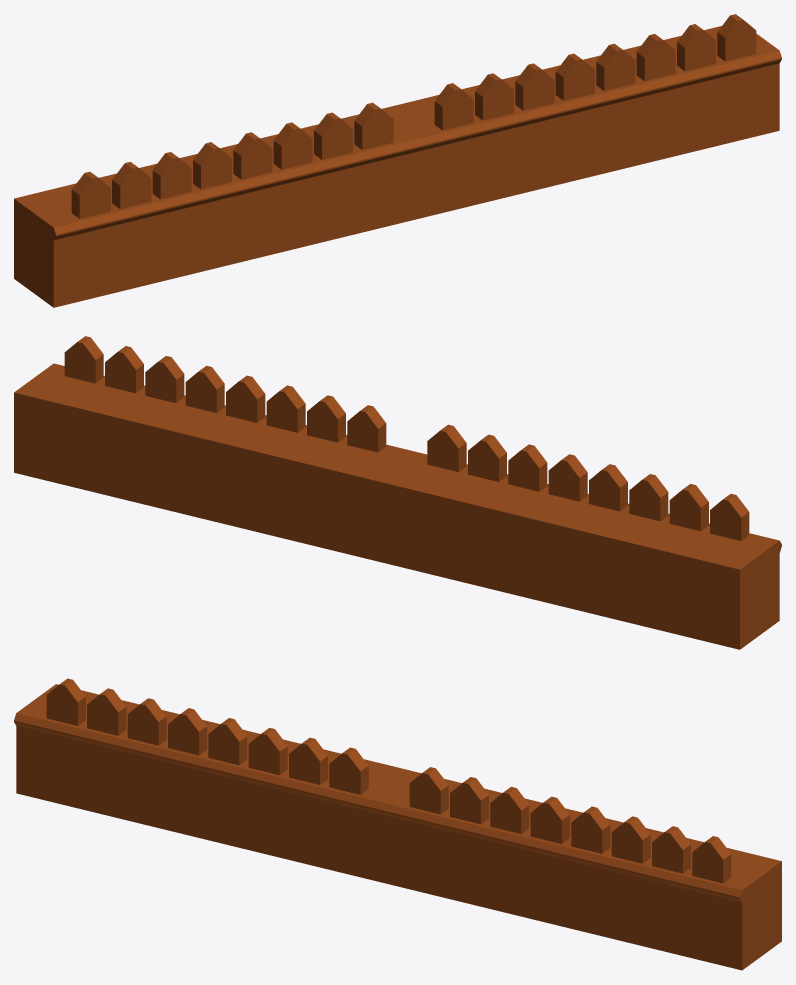
File: Wall2.fbx
3 renders of one model, top to bottom at view 1: azimuth 30°, elevation 25°; view 2: azimuth 150°, elevation 25°; view 3: azimuth 330°, elevation 25°, orthographic.
Parts seen in each view (by area): view 1: Thaphaegate.001; view 2: Thaphaegate.001; view 3: Thaphaegate.001.
Boxes of the visible parts, x1,y1,x2,y2 form: Thaphaegate.001: (14,14,781,307); Thaphaegate.001: (14,336,781,649); Thaphaegate.001: (14,678,781,970).
Size of the model in its own units: 4189 by 647 by 420.
